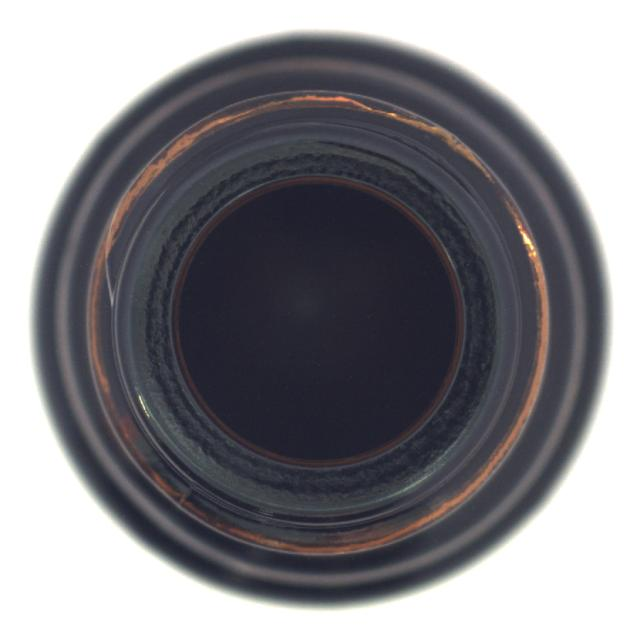bottle-good: (29, 31, 599, 602)
